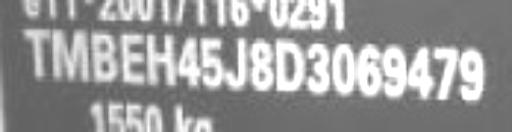letter: (50, 23, 90, 86), (273, 34, 305, 98), (88, 29, 120, 89), (117, 29, 149, 89), (146, 29, 176, 92), (302, 37, 332, 100), (356, 38, 384, 104), (20, 23, 52, 80), (220, 34, 250, 92), (432, 41, 458, 107), (458, 43, 488, 100), (174, 32, 202, 92), (382, 40, 408, 103), (408, 41, 432, 107), (250, 38, 278, 92), (200, 35, 226, 89), (332, 40, 356, 98)
